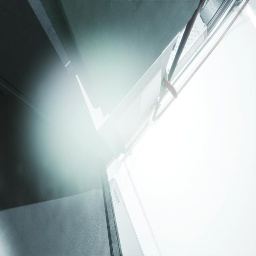SafetySwitchPanel ,: (76, 32, 180, 160)
